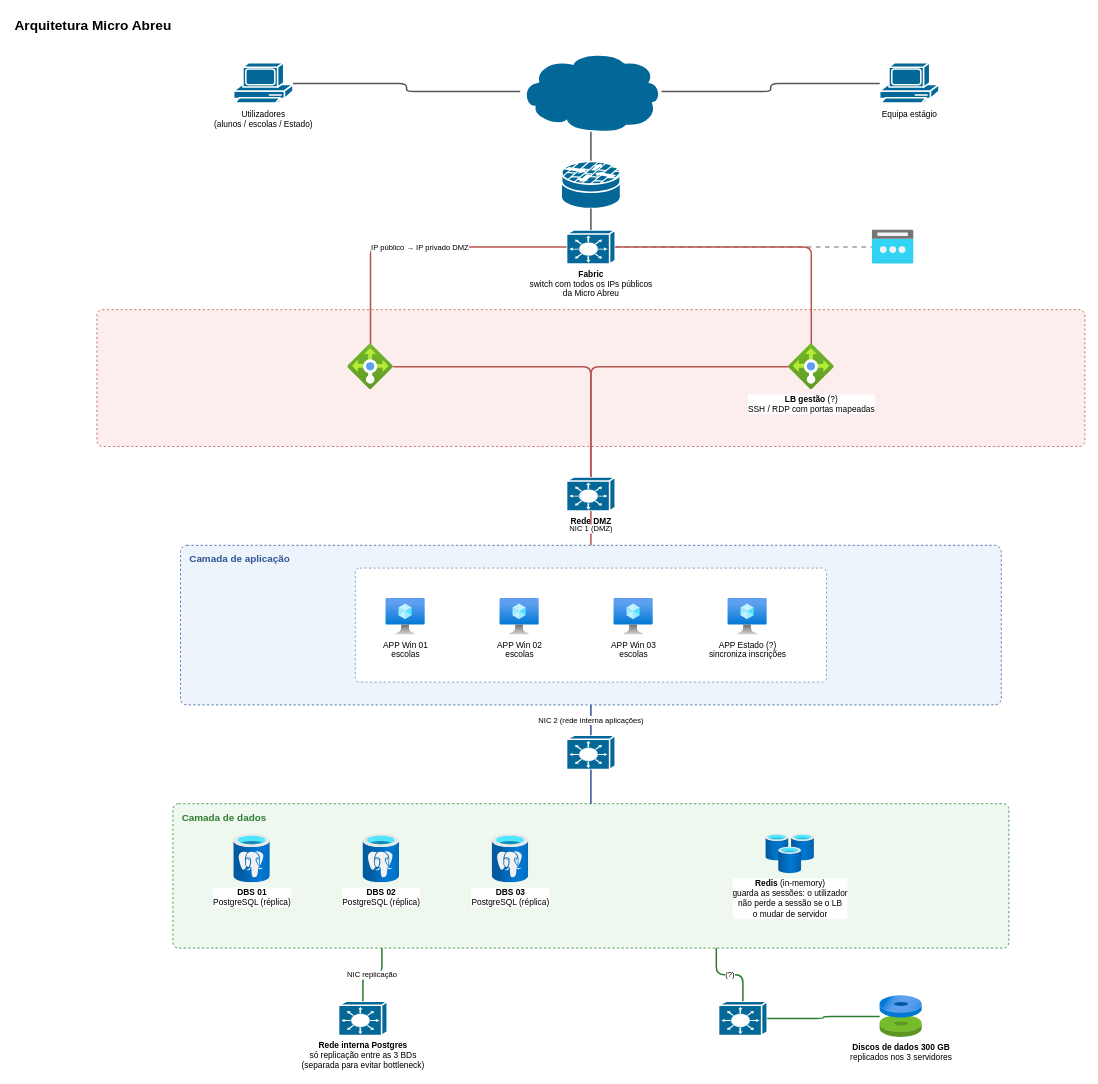
This 1098x1084 diagram has some shape labels left out. Here are the shapes that lost their labels. From the top down, the box of each, then its label:
(519, 50, 662, 132): Internet
(560, 160, 621, 209): Router / Firewall entrada
(872, 226, 914, 268): IPs públicos (LBs + acesso remoto BD (?))
(347, 344, 393, 389): LB aplicação HTTP/HTTPS em portas NÃO default (?)
(96, 309, 1085, 446): DMZ (zona pública, entre a firewall e o exterior)
(355, 567, 826, 682): Servidores Windows (acesso RDP)
(565, 734, 616, 770): Rede interna Aplicações comunicação entre APPs + acesso às BDs
(717, 1000, 768, 1036): Rede Storage
